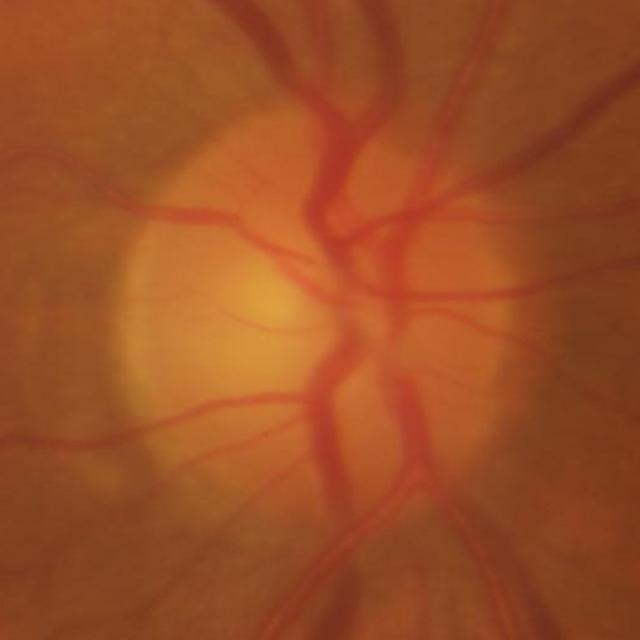OC: (210, 235, 388, 406)
OD: (114, 108, 522, 566)
